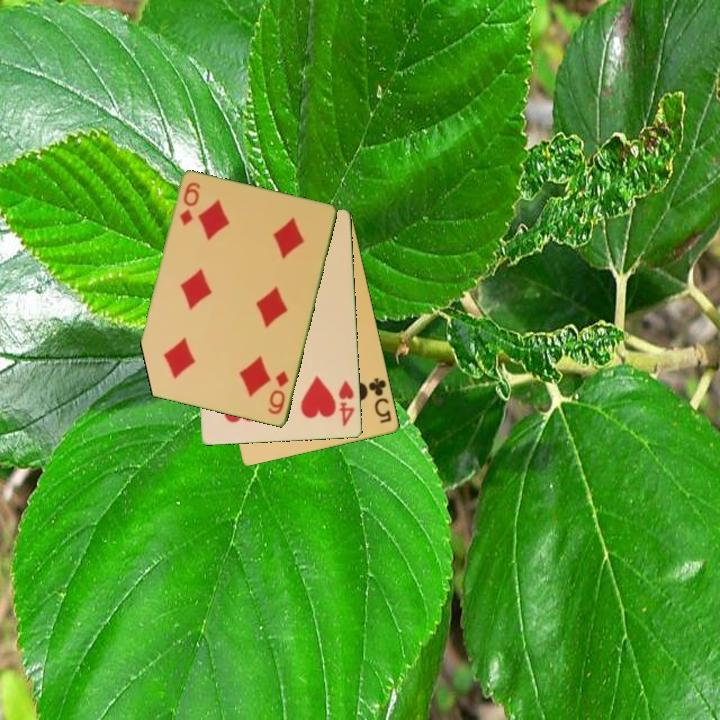4h: (335, 377, 358, 430)
5c: (365, 374, 395, 426)
6d: (265, 367, 292, 418), (176, 179, 203, 229)
